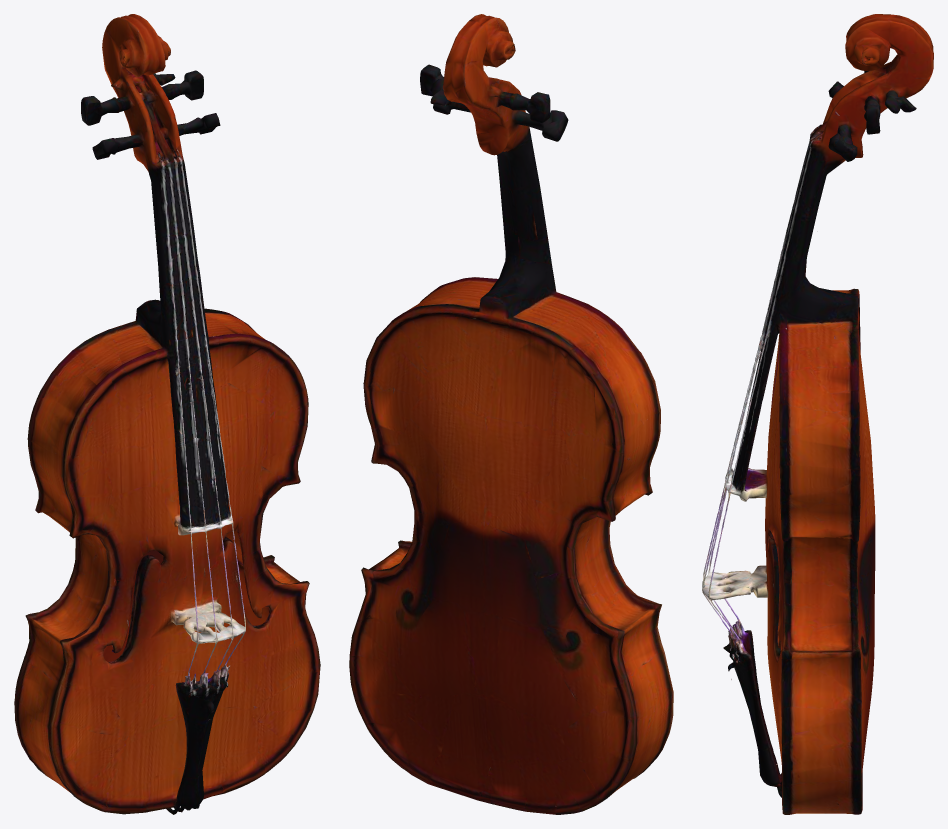
Rendered from violin.glb.
3 renders of one model, left to right at view 1: azimuth 30°, elevation 25°; view 2: azimuth 150°, elevation 25°; view 3: azimuth 270°, elevation 25°, orthographic. The views are drawn at different scales.
Size of the model in its own units: 0.7023 by 1.9 by 0.5111.
Materials: 1 (1 with a texture image).
